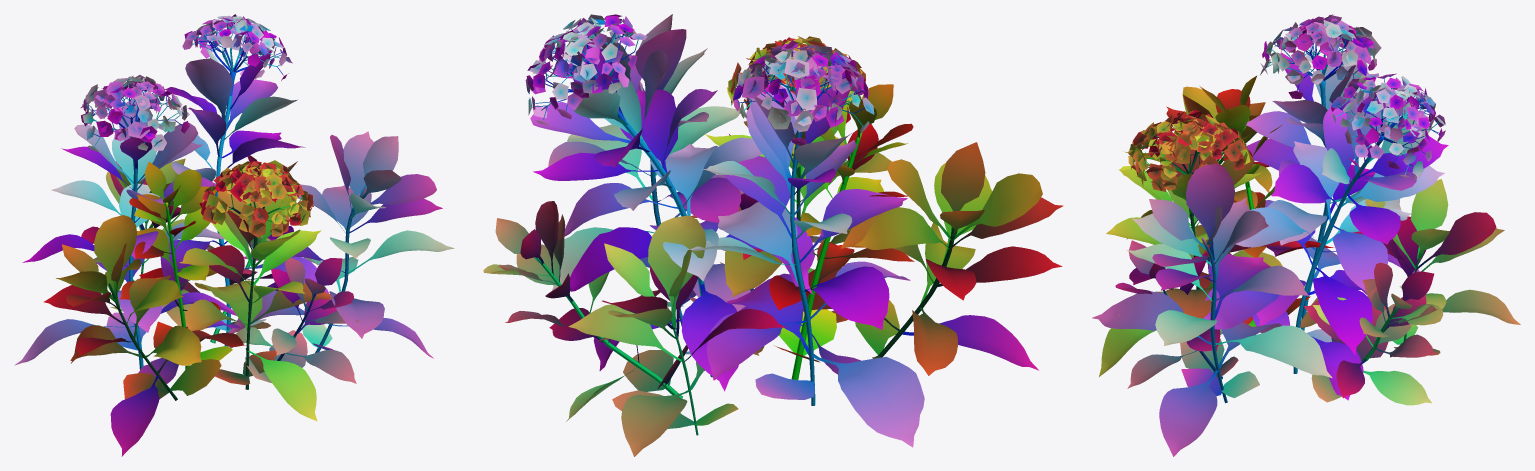
Rendered from Bigleaf_Hydrangea_vgztealha_Mid_vgztealha_VarE_LOD0.fbx.
3 renders of one model, left to right at view 1: azimuth 30°, elevation 25°; view 2: azimuth 150°, elevation 25°; view 3: azimuth 270°, elevation 25°, orthographic. The views are drawn at different scales.
Visible parts, largest first — view 1: _wlsu_VarE_LOD1; view 2: _wlsu_VarE_LOD1; view 3: _wlsu_VarE_LOD1.
Part boxes in pixels (x1,y1,x2,y2): _wlsu_VarE_LOD1: (14, 14, 454, 456); _wlsu_VarE_LOD1: (483, 14, 1063, 456); _wlsu_VarE_LOD1: (1092, 14, 1520, 456).
Size of the model in its own units: 78.19 by 58.57 by 69.82.
